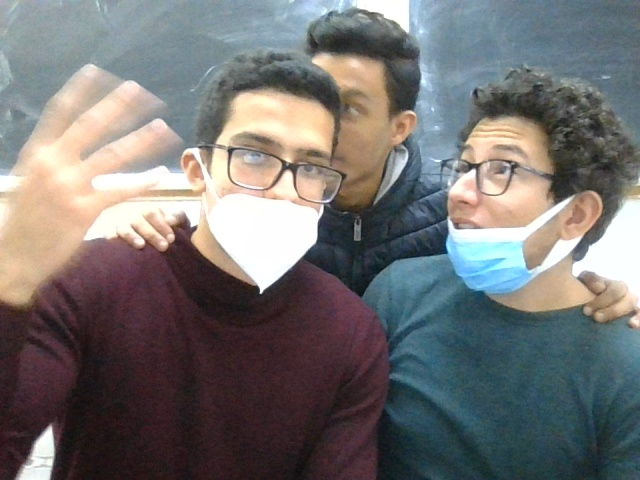mask_weared_incorrect: (442, 59, 611, 308), (202, 52, 334, 293)
